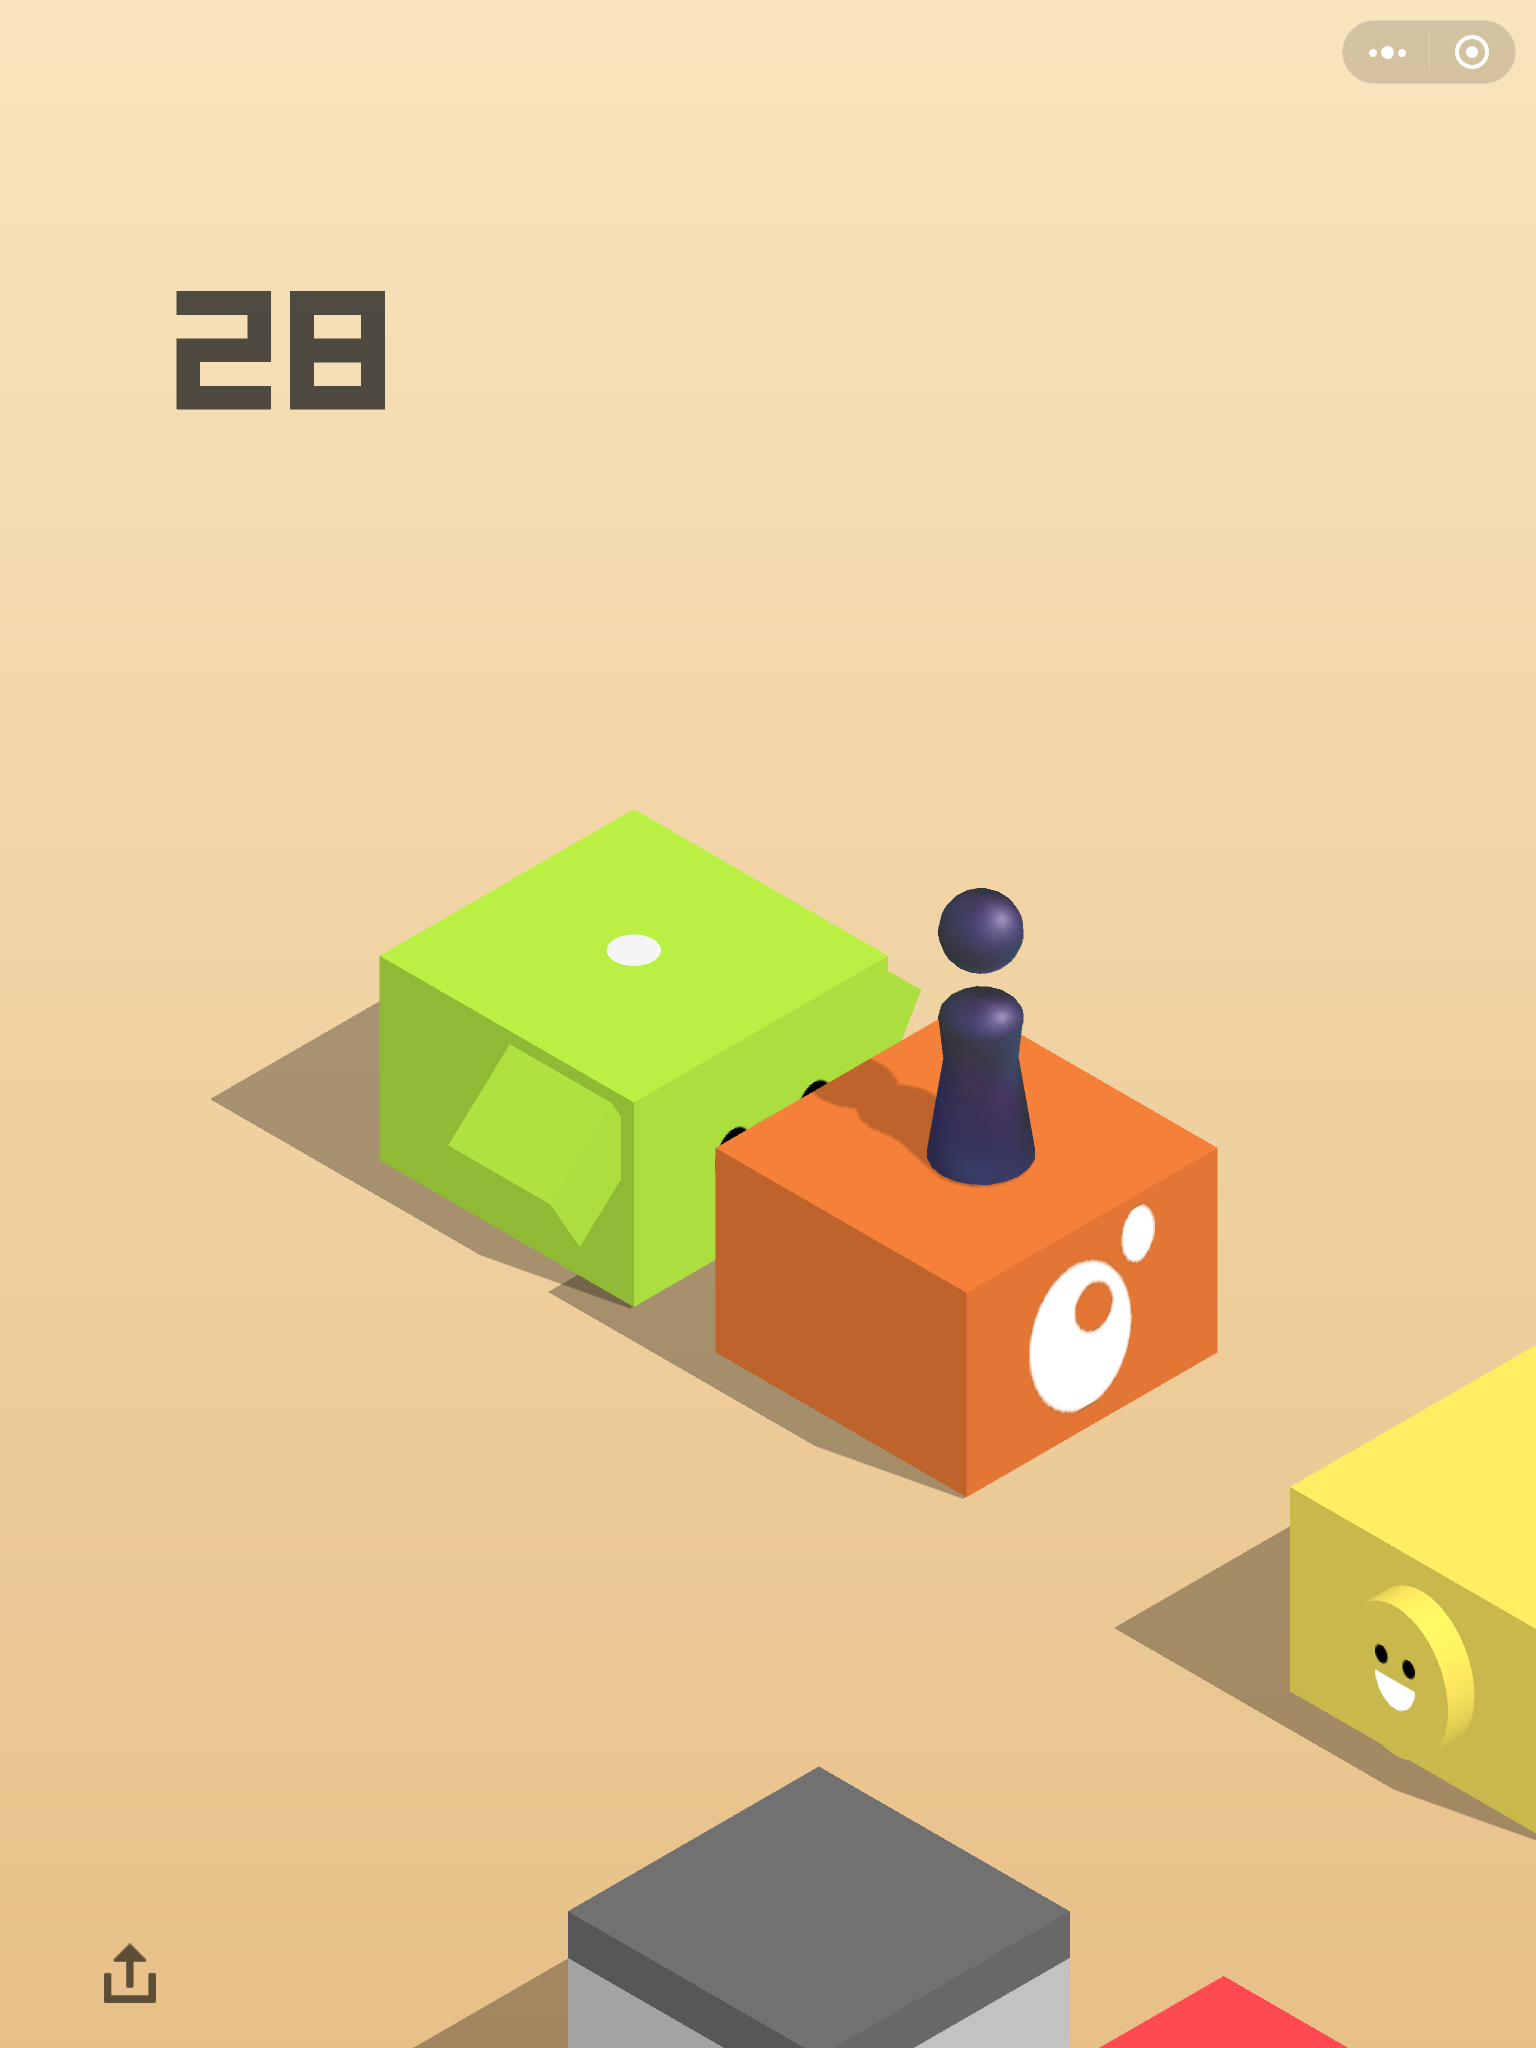f: (371, 801, 925, 1313), (707, 1001, 1225, 1496), (561, 1756, 1078, 2048), (1281, 1322, 1536, 1854)
r: (918, 876, 1042, 1195)
